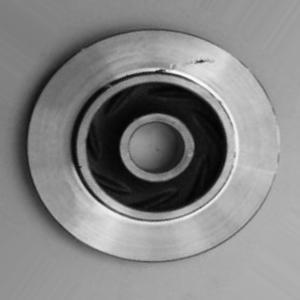defect: (150, 45, 224, 87)
